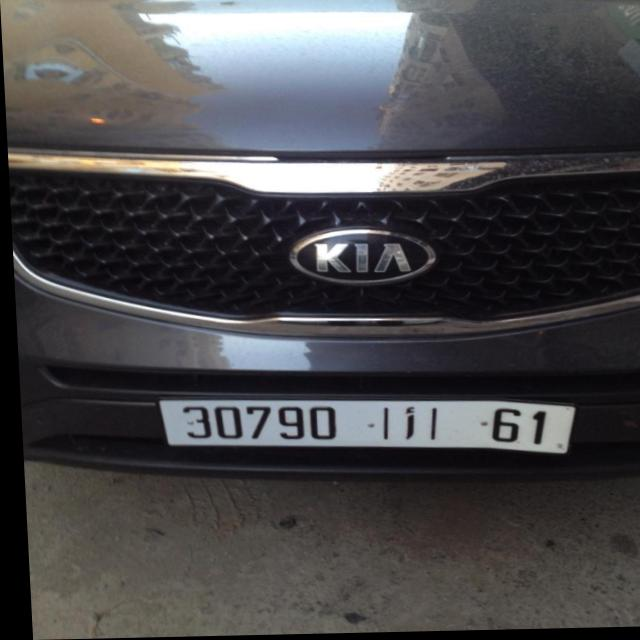License-Plate: (155, 400, 571, 456)
